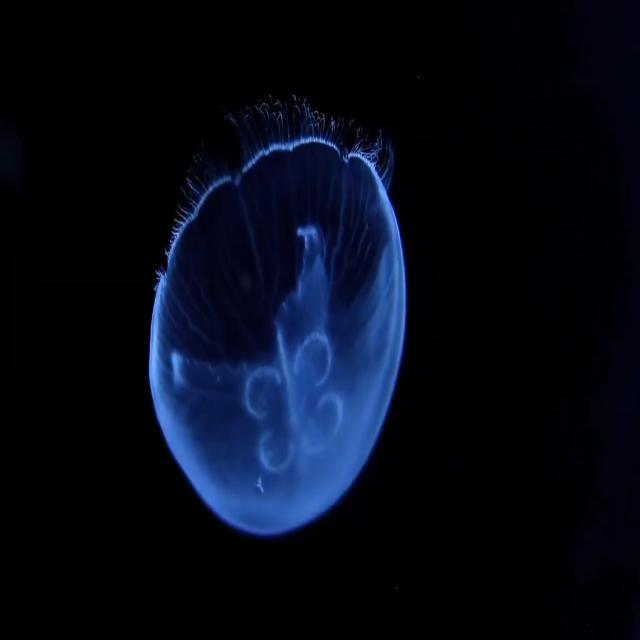Moon-jellyfish: (146, 92, 410, 543)
